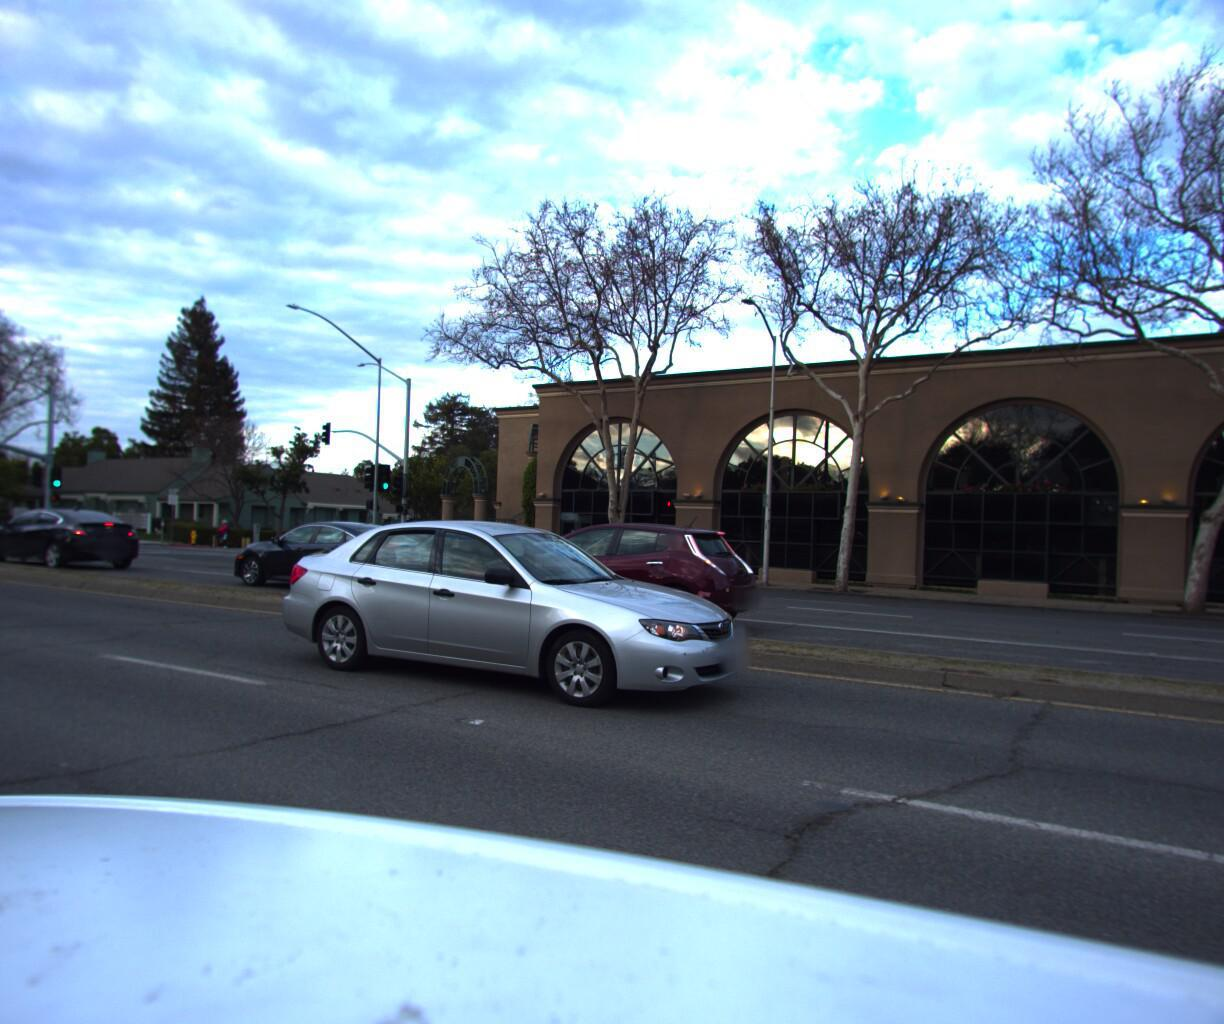car: (267, 510, 774, 729), (466, 513, 776, 638), (218, 513, 454, 597), (0, 500, 149, 569)
